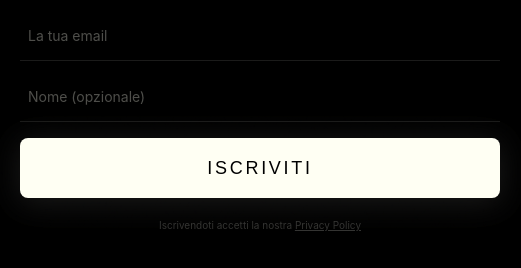
it: SubscribeForm › shows validation error for invalid email
The image size is (521, 268).
Type "bad" into the field with placeholder "La tua email" at {"x": 260, "y": 36}, box [20, 12, 500, 61]
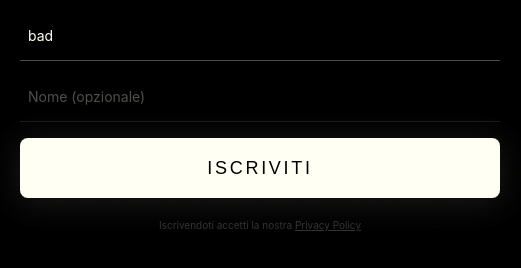
Click the button "ISCRIVITI" at {"x": 260, "y": 168}, box [20, 138, 500, 198]
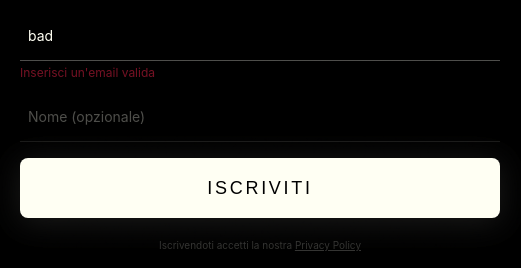
Expected: the text "Inserisci un'email valida" is shown, [20, 65, 155, 80]
